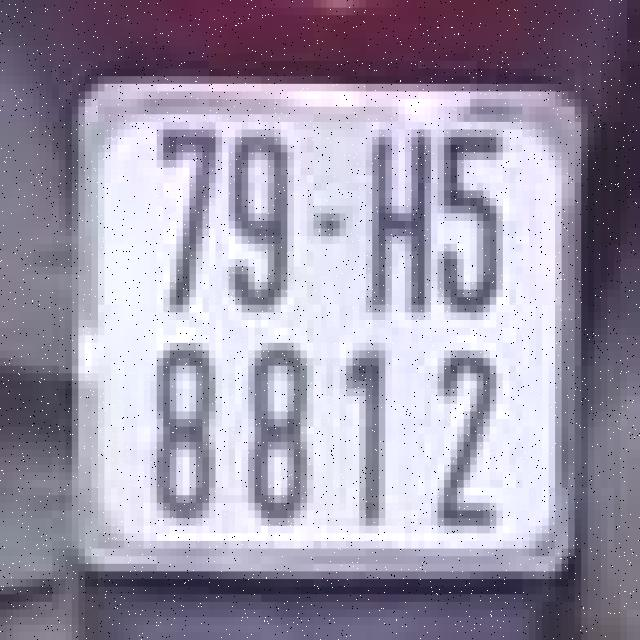1: (336, 343, 395, 526)
2: (431, 346, 509, 530)
5: (437, 118, 516, 324)
7: (154, 118, 226, 316)
8: (238, 343, 317, 533), (144, 335, 222, 526)
9: (225, 122, 297, 320)
H: (352, 118, 438, 324)
